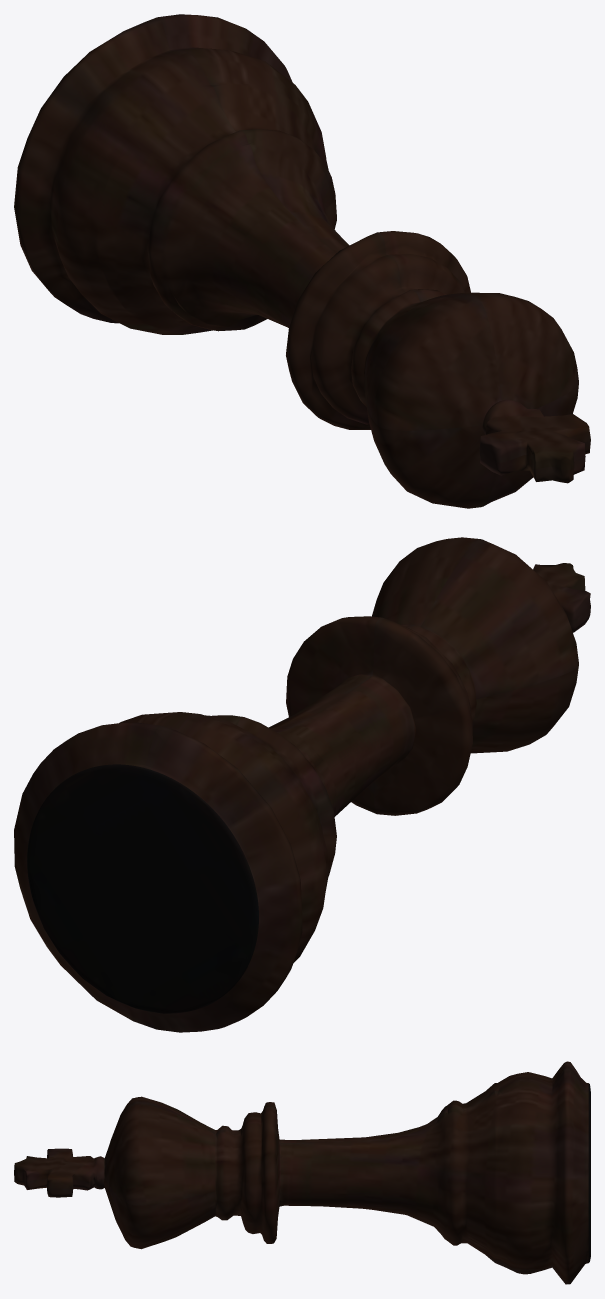
The model's file is king4.obj.
3 views of the same model, one above another, from view 1: azimuth 30°, elevation 25°; view 2: azimuth 150°, elevation 25°; view 3: azimuth 270°, elevation 25° (orthographic). The views are drawn at different scales.
Parts seen in each view (by area): view 1: mmGroup0; view 2: mmGroup0; view 3: mmGroup0.
Boxes of the visible parts, x1,y1,x2,y2 form: mmGroup0: [14, 14, 590, 508]; mmGroup0: [14, 537, 590, 1032]; mmGroup0: [14, 1061, 590, 1284].
Size of the model in its own units: 4.44 by 4.46 by 11.5.
